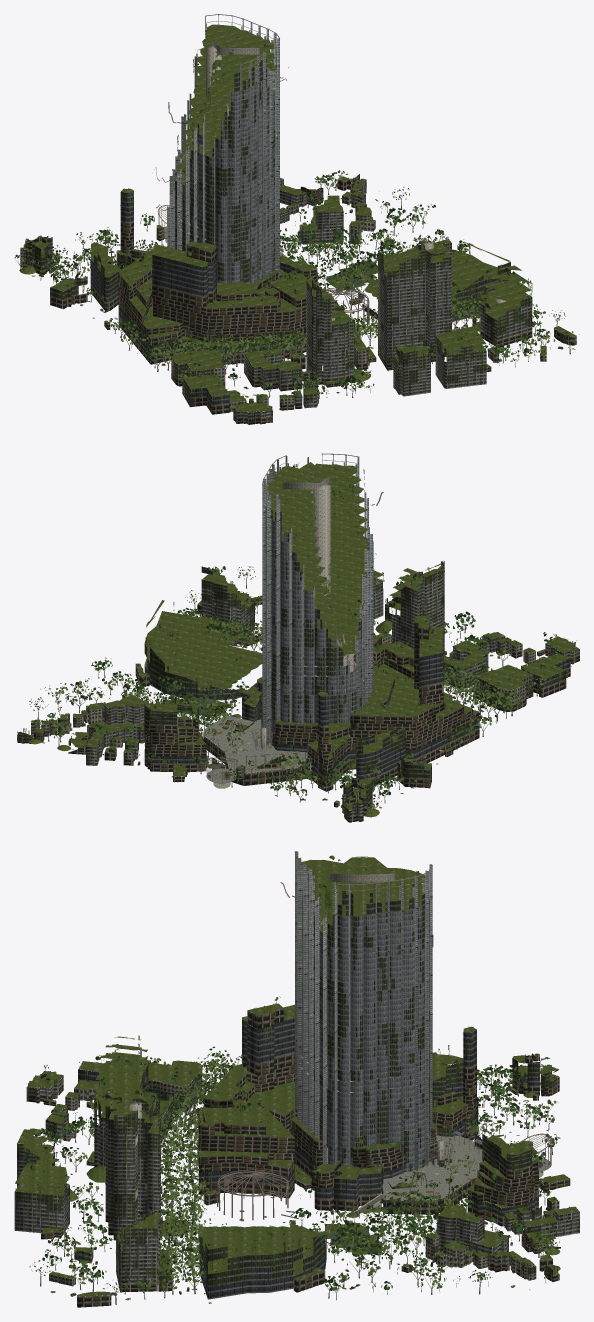
Rendered from mid.glb.
The picture shows the model from 3 angles, top to bottom: view 1: azimuth 30°, elevation 25°; view 2: azimuth 150°, elevation 25°; view 3: azimuth 270°, elevation 25°; orthographic projection. The views are drawn at different scales.
Parts seen in each view (by area): view 1: fac, top, tower, foliage_streets, foliage_keyaki, foliage_roofs, bark, foliage_lots, foliage_garden, foliage_high, metal, tconc (+1 smaller); view 2: fac, top, tower, foliage_streets, pave, foliage_roofs, foliage_keyaki, bark, tconc, foliage_lots, foliage_garden, metal (+2 smaller); view 3: fac, tower, top, foliage_keyaki, foliage_streets, bark, pave, foliage_roofs, metal, foliage_lots, foliage_garden, foliage_high (+1 smaller).
Boxes of the visible parts, x1=… form: fac: x1=20, y1=174, x2=576, y2=424; top: x1=19, y1=24, x2=575, y2=412; tower: x1=167, y1=14, x2=279, y2=283; foliage_streets: x1=14, y1=170, x2=560, y2=389; foliage_keyaki: x1=137, y1=290, x2=487, y2=362; foliage_roofs: x1=26, y1=175, x2=564, y2=420; bark: x1=15, y1=48, x2=570, y2=410; foliage_lots: x1=130, y1=187, x2=579, y2=396; foliage_garden: x1=288, y1=230, x2=410, y2=285; foliage_high: x1=91, y1=29, x2=520, y2=351; metal: x1=154, y1=14, x2=369, y2=326; tconc: x1=206, y1=41, x2=259, y2=96; fac: x1=17, y1=561, x2=579, y2=822; top: x1=17, y1=462, x2=579, y2=817; tower: x1=262, y1=453, x2=373, y2=745; foliage_streets: x1=36, y1=591, x2=513, y2=809; pave: x1=203, y1=715, x2=307, y2=782; foliage_roofs: x1=23, y1=566, x2=577, y2=802; foliage_keyaki: x1=177, y1=608, x2=528, y2=709; bark: x1=36, y1=464, x2=575, y2=817; tconc: x1=282, y1=476, x2=330, y2=599; foliage_lots: x1=17, y1=566, x2=549, y2=781; foliage_garden: x1=122, y1=675, x2=239, y2=727; metal: x1=206, y1=453, x2=383, y2=784; fac: x1=14, y1=1008, x2=579, y2=1307; tower: x1=295, y1=851, x2=432, y2=1173; top: x1=15, y1=857, x2=579, y2=1296; foliage_keyaki: x1=152, y1=1046, x2=241, y2=1283; foliage_streets: x1=54, y1=1062, x2=560, y2=1293; bark: x1=20, y1=879, x2=556, y2=1304; pave: x1=352, y1=1135, x2=550, y2=1218; foliage_roofs: x1=15, y1=1048, x2=576, y2=1294; metal: x1=217, y1=852, x2=551, y2=1220; foliage_lots: x1=29, y1=1056, x2=547, y2=1292; foliage_garden: x1=308, y1=1192, x2=409, y2=1264; foliage_high: x1=93, y1=855, x2=535, y2=1189.
Size of the model in its own units: 389 by 260 by 419.
Materials: 17 (15 with a texture image).
